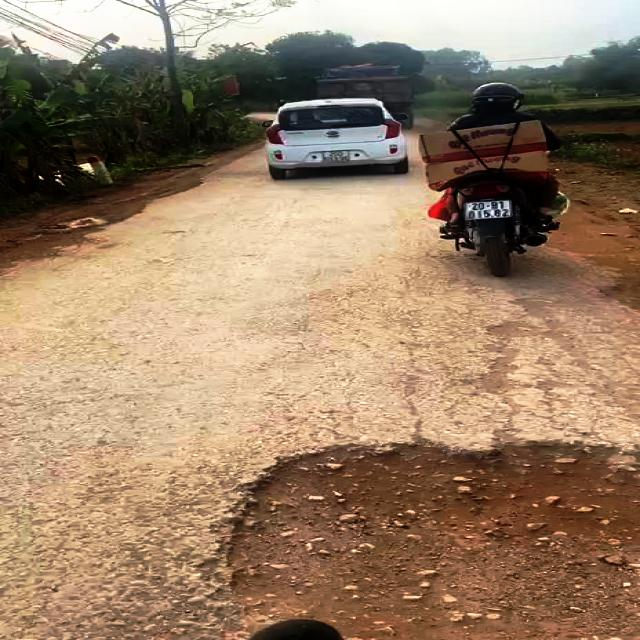pothole: (189, 429, 640, 640), (469, 320, 559, 402)
